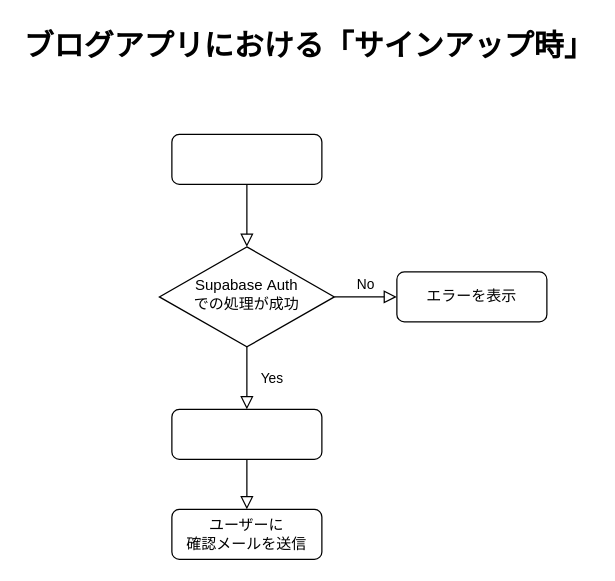
The diagram is 615 pixels wide and 581 high, and some of its shapes have lost their labels. The shapes that lost their labels are listed below. From the top down, each one's centre as x and y in pixels, then its label:
At (x=246, y=158): "ユーザーが サインアップ".
At (x=246, y=433): "profilesテーブルに レコードを追加".
